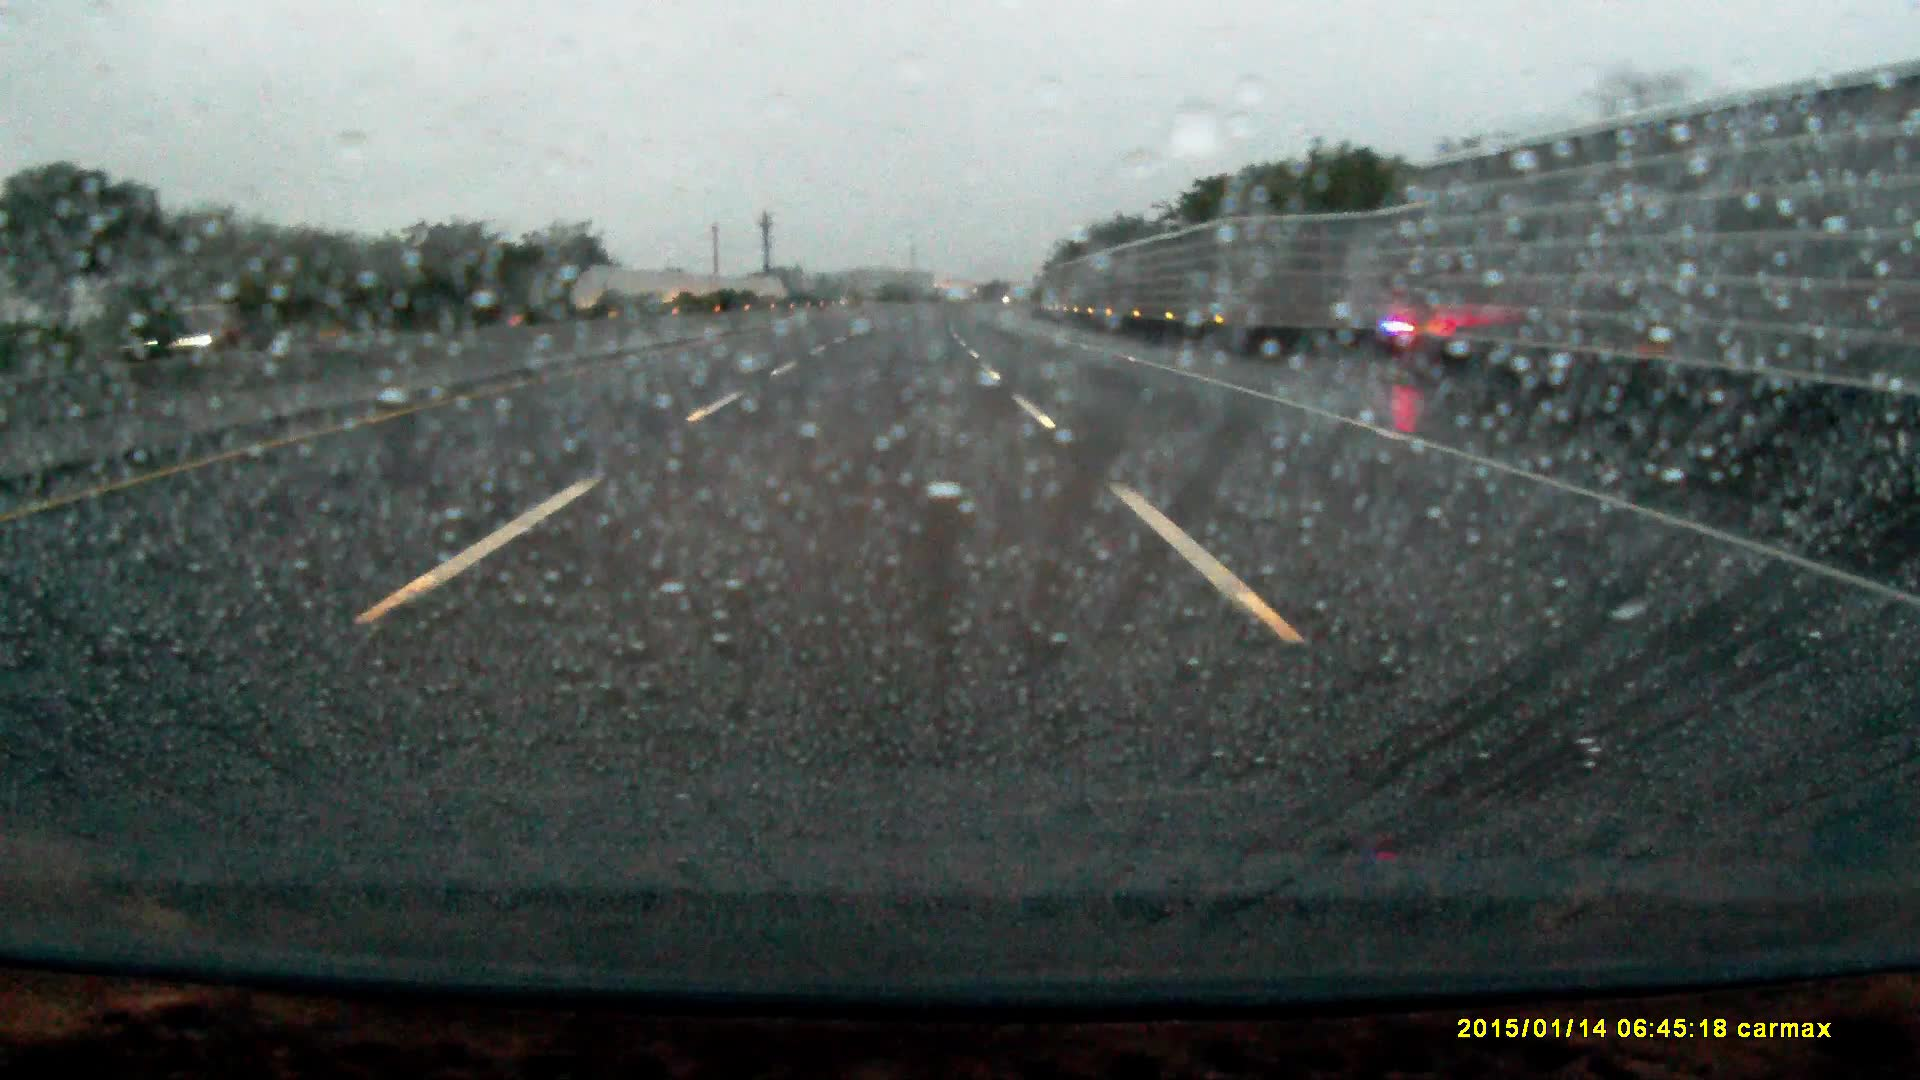vehicle: (131, 305, 260, 360)
